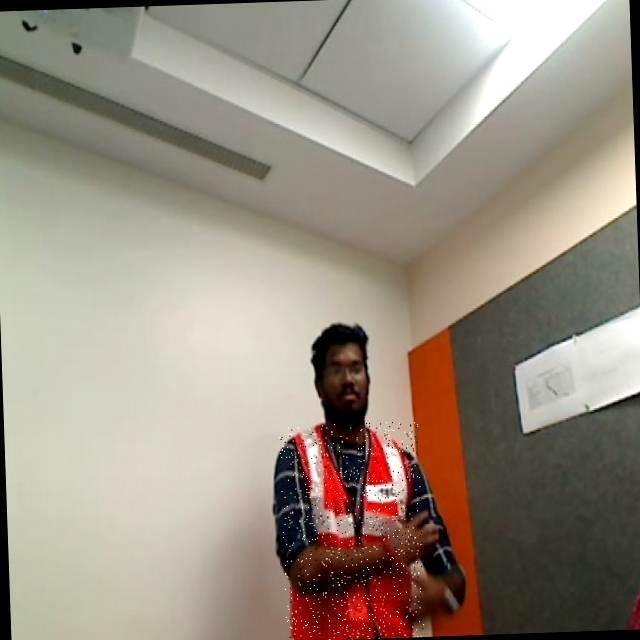no_head_wear: (311, 324, 367, 381)
person: (275, 320, 465, 639)
